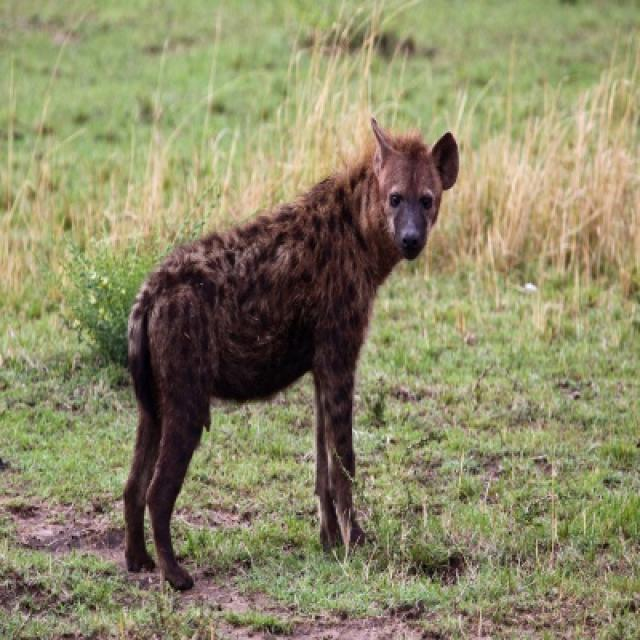hyena: (122, 118, 461, 595)
